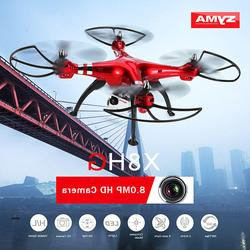drone: (10, 25, 242, 147)
